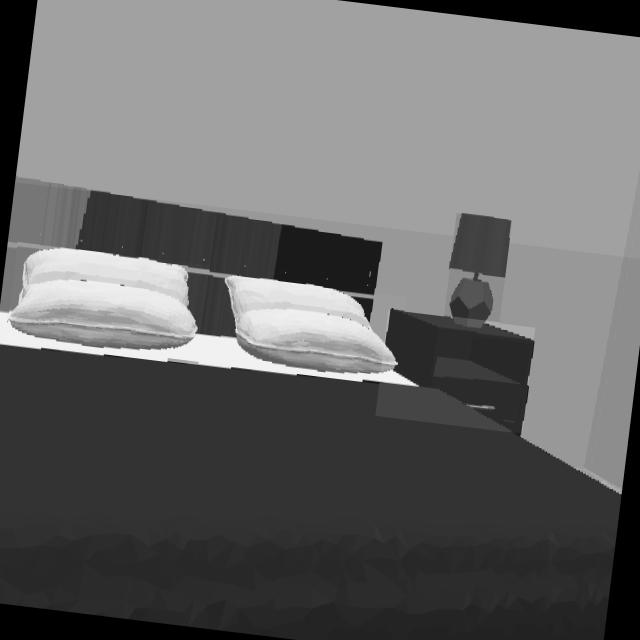bed: (0, 191, 621, 640)
lamp: (448, 214, 511, 330)
nighttable: (384, 311, 533, 432)
pillow: (181, 275, 396, 381), (8, 250, 201, 356)
